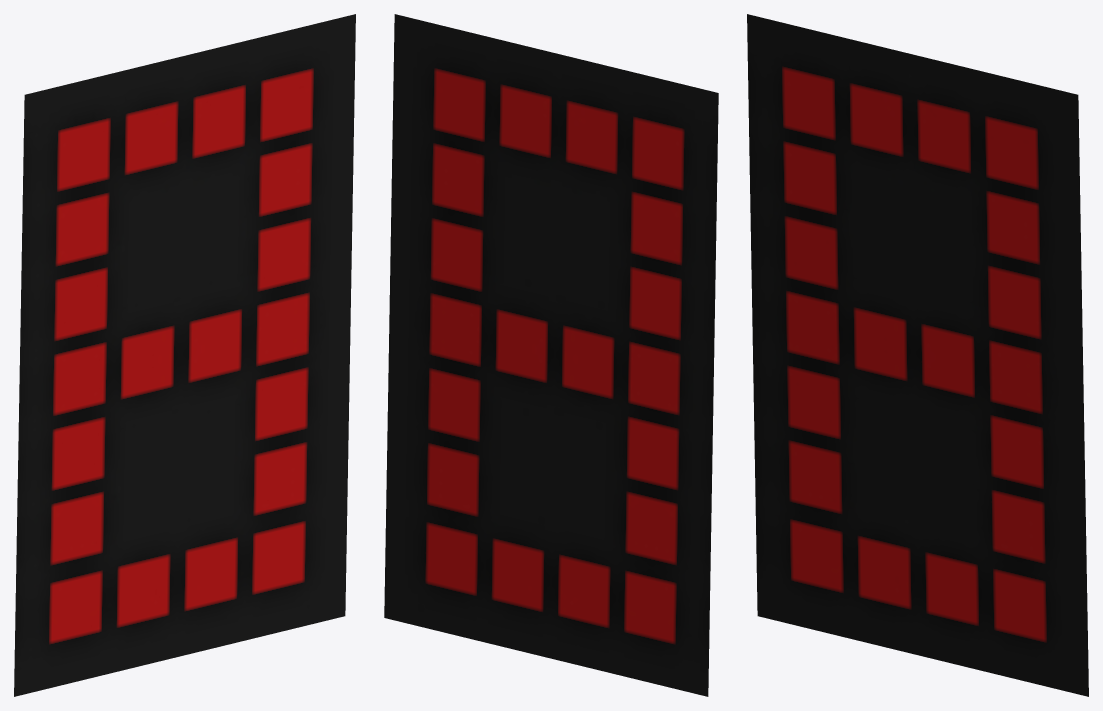
The picture shows the model from 3 angles, left to right: view 1: azimuth 30°, elevation 25°; view 2: azimuth 150°, elevation 25°; view 3: azimuth 330°, elevation 25°; orthographic projection. The views are drawn at different scales.
Visible parts, largest first — view 1: scorebord.001; view 2: scorebord.001; view 3: scorebord.001.
Boxes of the visible parts, x1,y1,x2,y2 form: scorebord.001: [14, 14, 355, 696]; scorebord.001: [384, 14, 718, 696]; scorebord.001: [747, 14, 1088, 696].
Bounding box in the file's own units: 0.00402 × 0.00706 × 0.000222.
1 material, 1 textured.
